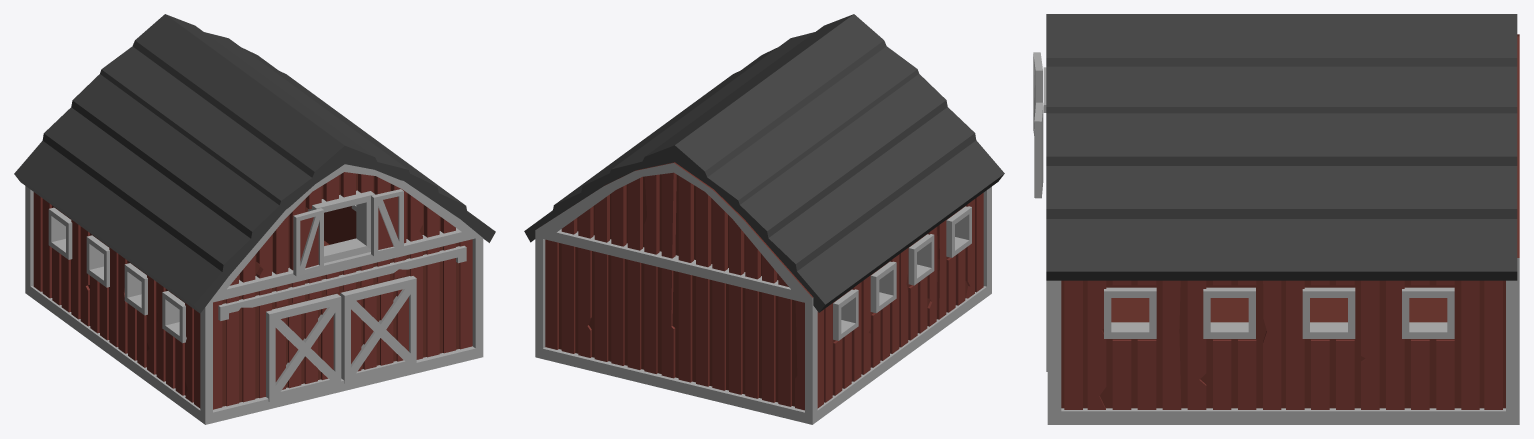
Rendered from Barn.glb.
The picture shows the model from 3 angles, left to right: view 1: azimuth 30°, elevation 25°; view 2: azimuth 150°, elevation 25°; view 3: azimuth 270°, elevation 25°; orthographic projection. The views are drawn at different scales.
Visible parts, largest first — view 1: Barn_Body; view 2: Barn_Body; view 3: Barn_Body.
Part boxes in pixels (x1,y1,x2,y2): Barn_Body: (14,14,495,424); Barn_Body: (524,14,1004,424); Barn_Body: (1033,14,1519,424).
Size of the model in its own units: 7.73 by 6.01 by 8.22.
